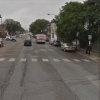Crosswalk: (2, 50, 97, 67)
